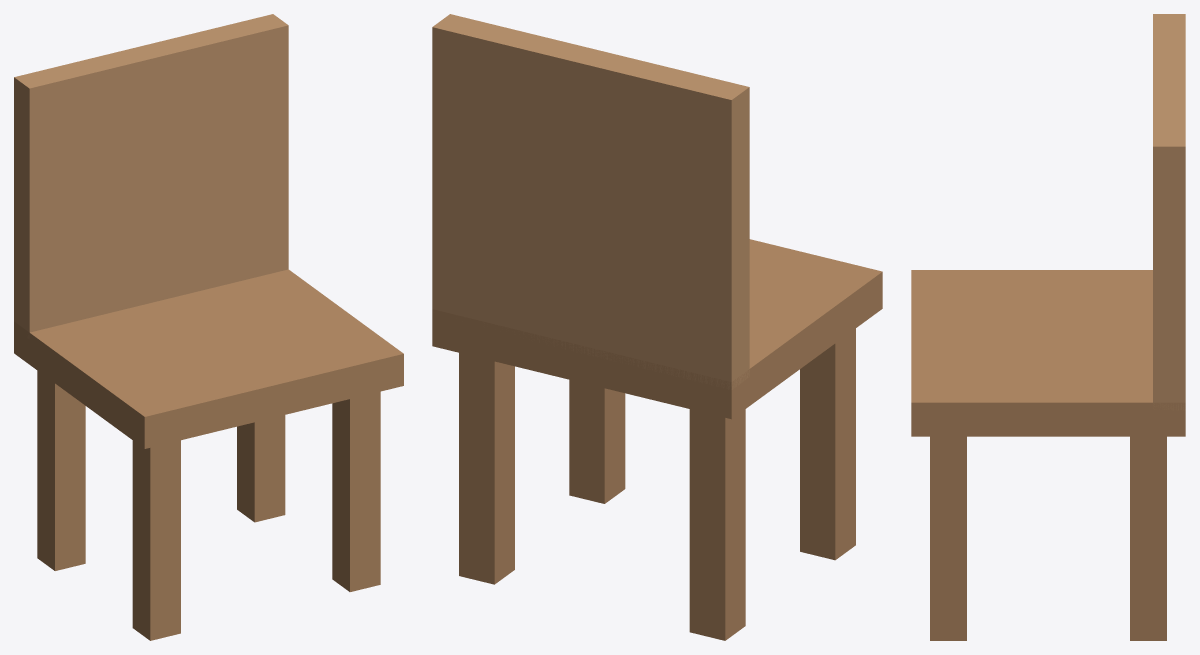
File: demo-oak-chair.glb
3 views of the same model, side by side, from view 1: azimuth 30°, elevation 25°; view 2: azimuth 150°, elevation 25°; view 3: azimuth 270°, elevation 25° (orthographic). The views are drawn at different scales.
Size of the model in its own units: 1.35 by 2.38 by 1.18.
